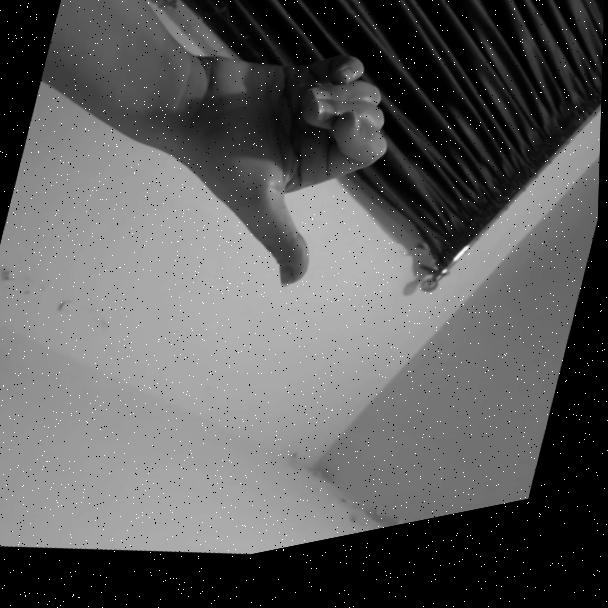five: (175, 11, 427, 334)
